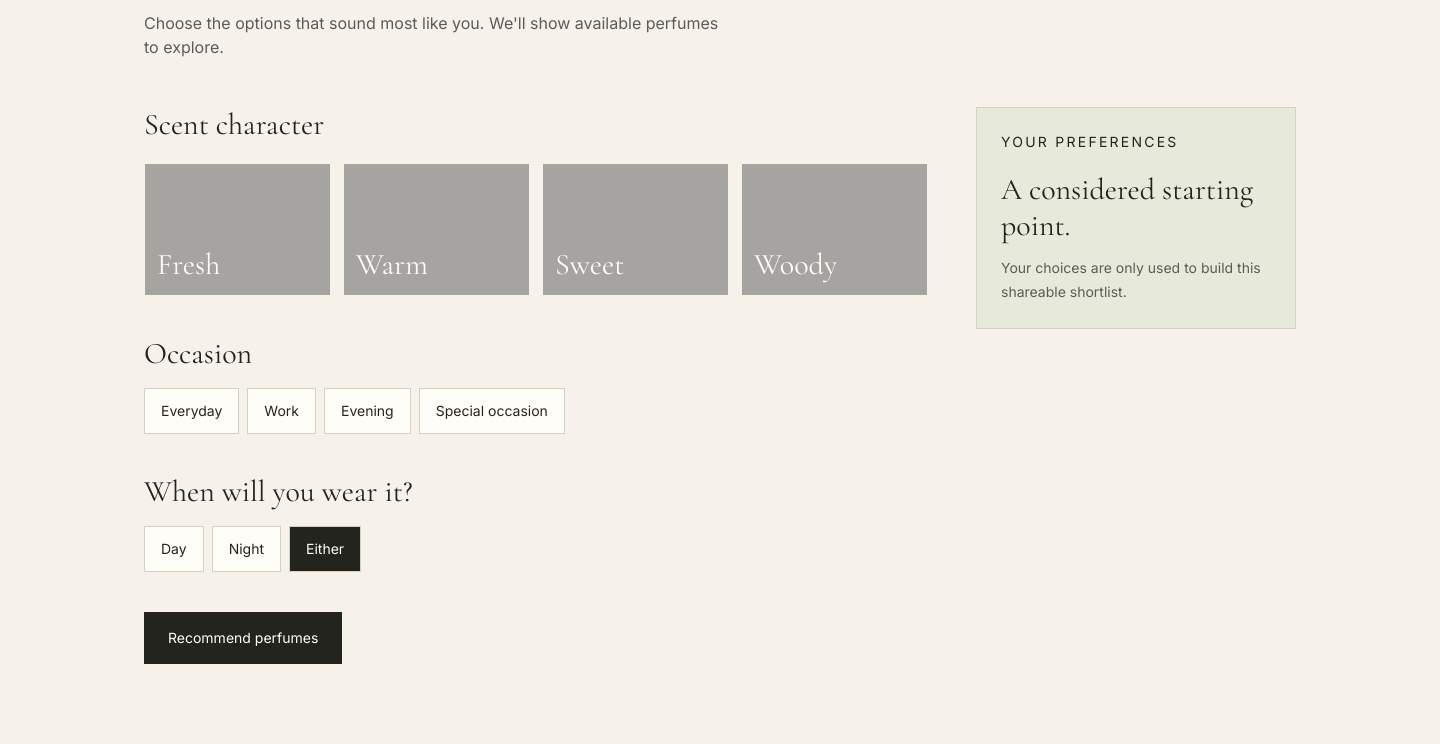
public catalogue controls › requires at least one preference before showing recommendations
(page scrolled)
Click the button "Recommend perfumes" at (243, 638), box 144,612 -> 342,664
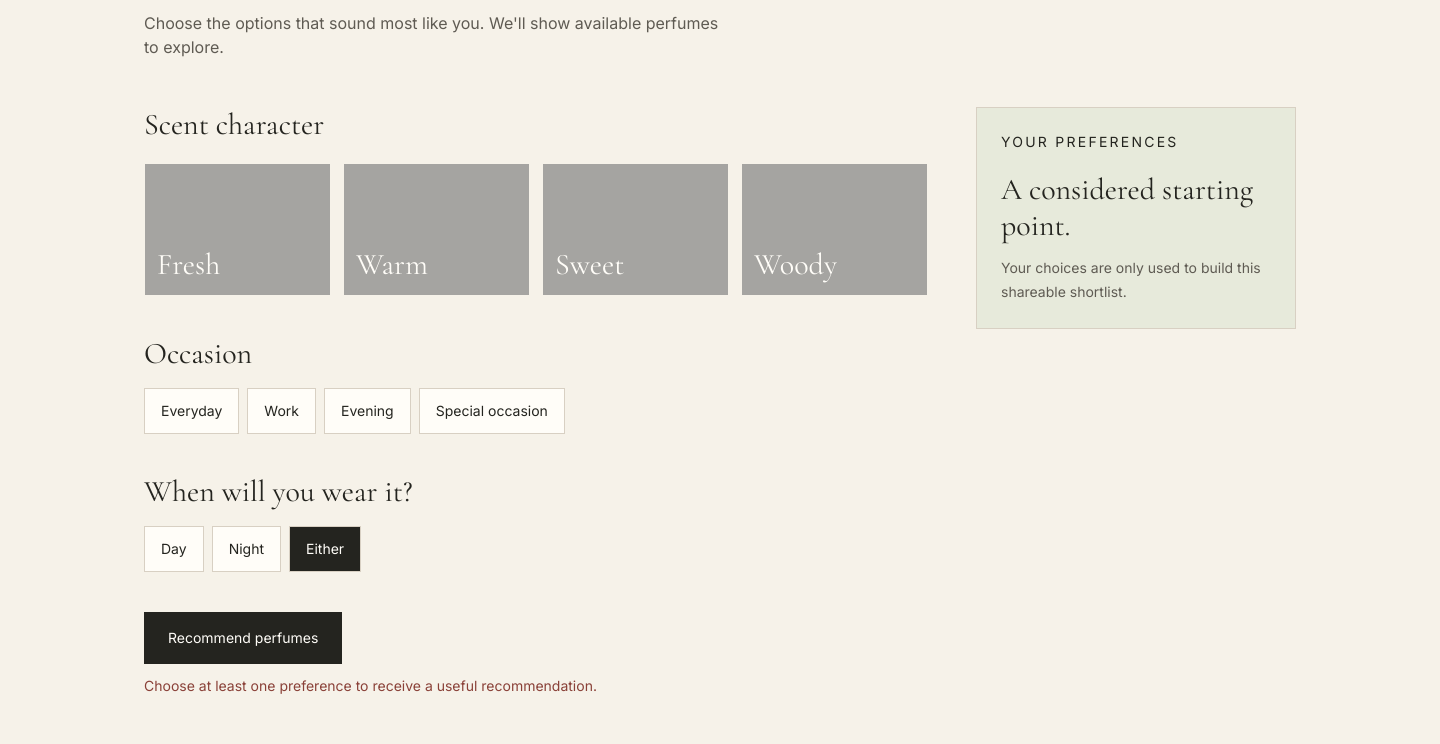
Check: the message shows "Choose at least one preference", box 144,677 -> 597,694
